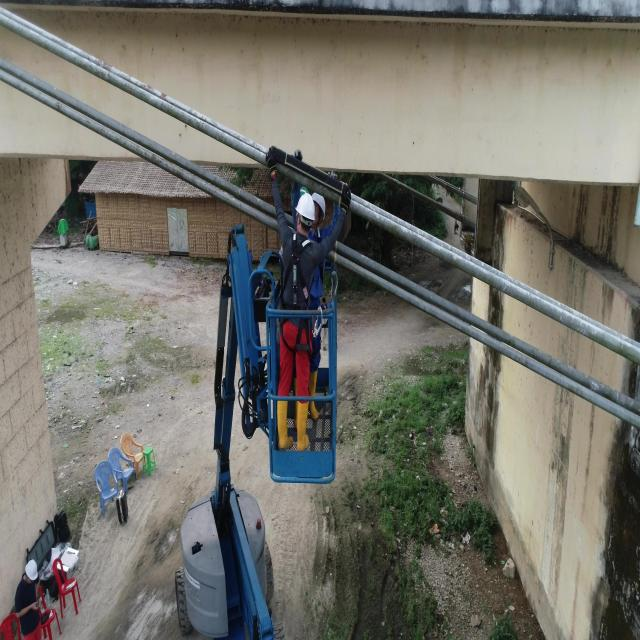corrosion: (104, 62, 112, 74), (145, 84, 153, 93), (161, 91, 167, 102), (95, 60, 101, 66)
